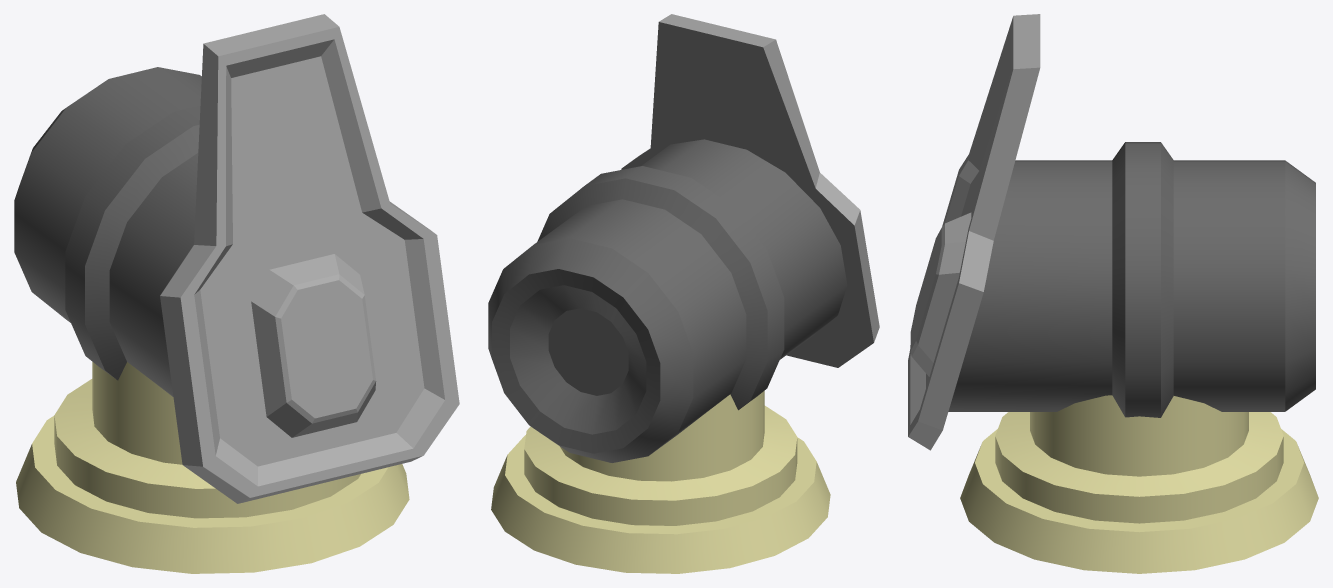
Rendered from Rychlopalnica_Main_body.fbx.
3 renders of one model, left to right at view 1: azimuth 30°, elevation 25°; view 2: azimuth 150°, elevation 25°; view 3: azimuth 270°, elevation 25°, orthographic. The views are drawn at different scales.
Parts seen in each view (by area): view 1: pCube116; view 2: pCube116; view 3: pCube116.
Part boxes in pixels (bbox=[...]): pCube116: bbox=[14, 14, 459, 573]; pCube116: bbox=[488, 14, 879, 573]; pCube116: bbox=[908, 14, 1318, 573].
Size of the model in its own units: 33.06 by 46.34 by 37.85.
